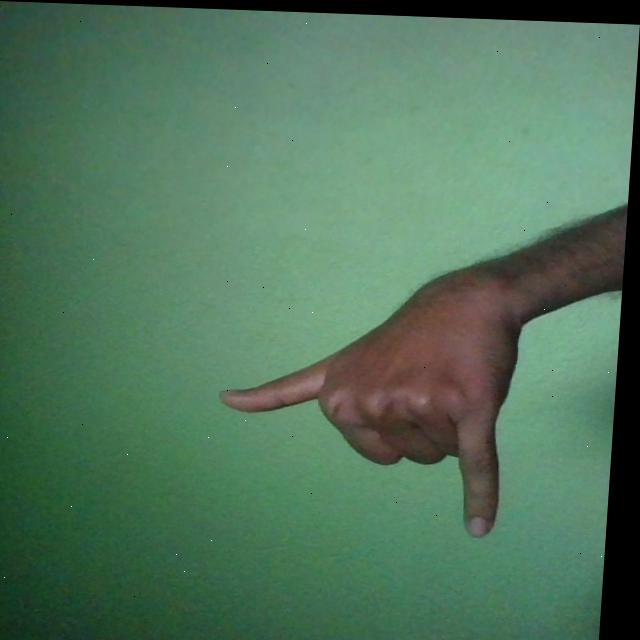Call Me: (215, 245, 530, 534)
